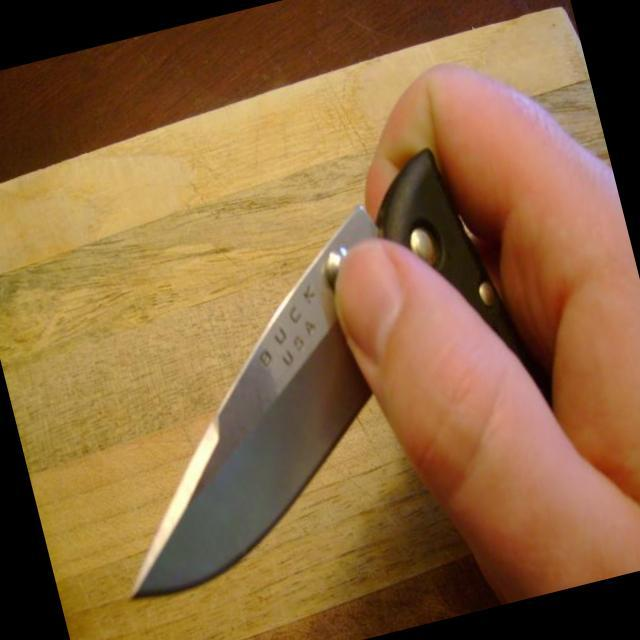Knife: (23, 125, 530, 614)
